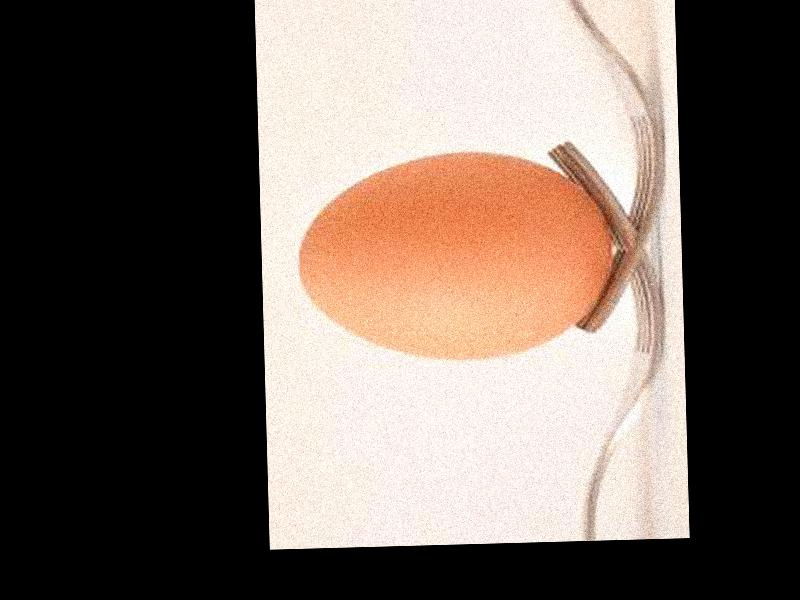Eggs: (296, 149, 614, 364)
